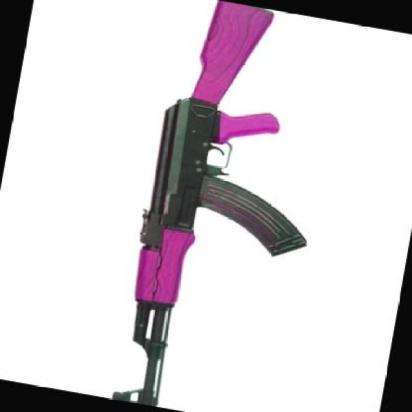Gun: (77, 0, 353, 412)
